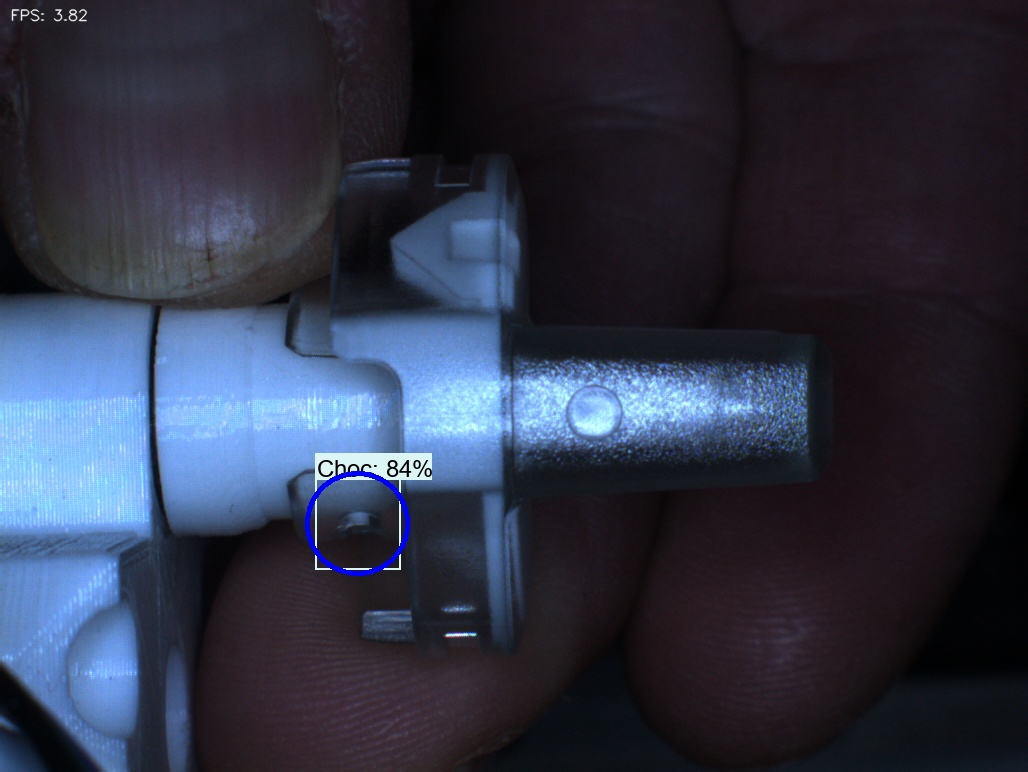DentOk: (363, 208, 442, 312)
